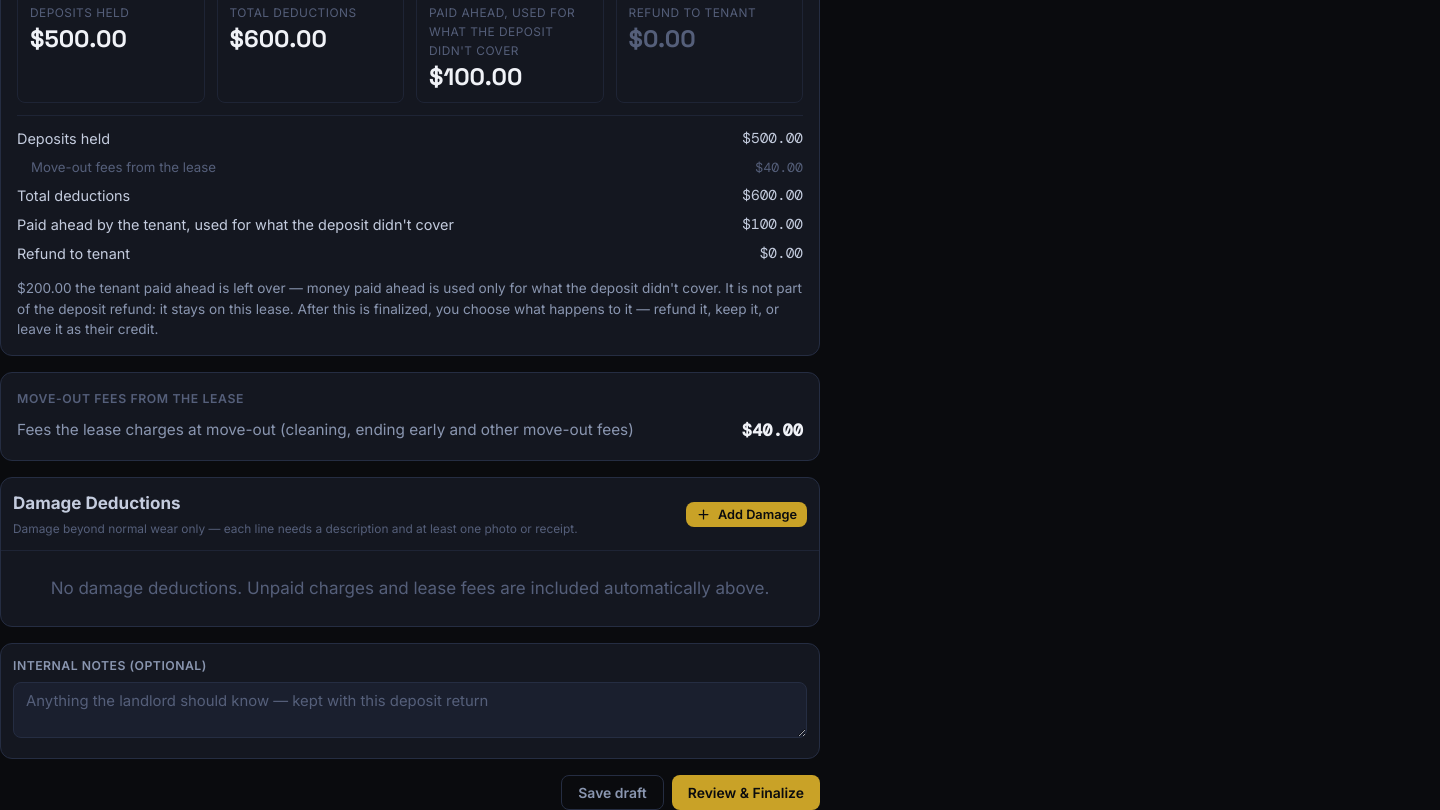
Test: Deposit return: the server's figures, never the page's own sum › paid-ahead money that paid what the deposit didn't cover is said in the confirm
(page scrolled)
Click the button "Review & Finalize": (746, 793) [672, 775, 820, 809]
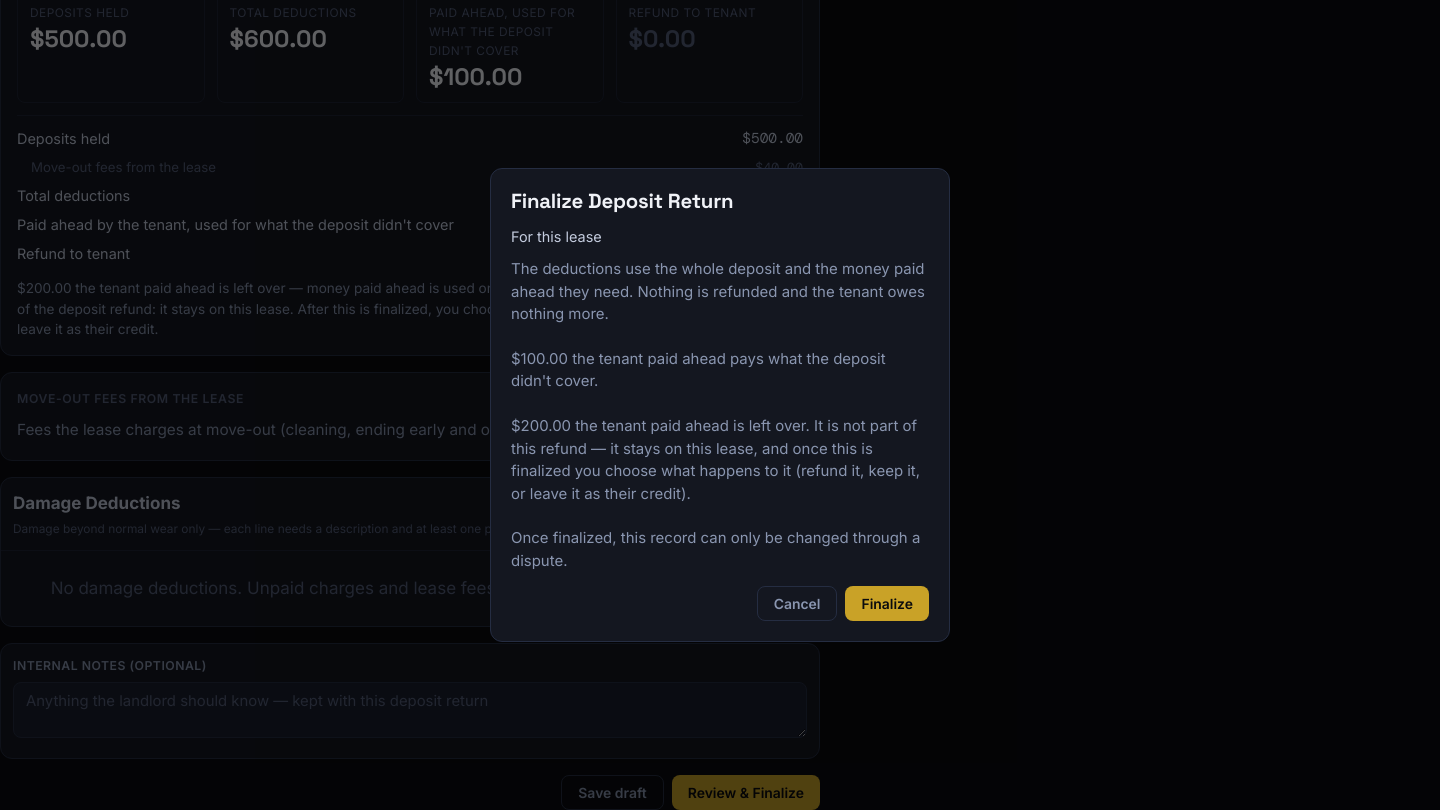
Expected: the dialog shows "$100.00 the tenant paid ahead pays what the deposit didn't cover.", [490, 168, 950, 642]
